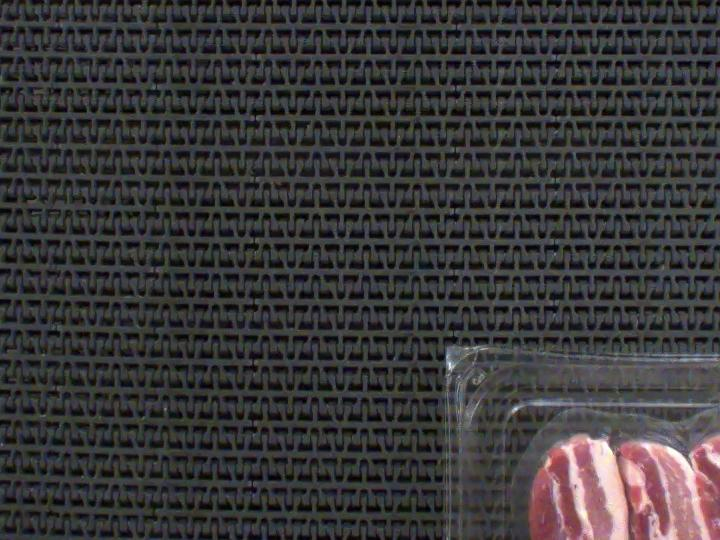unsealed: (507, 372, 720, 517)
